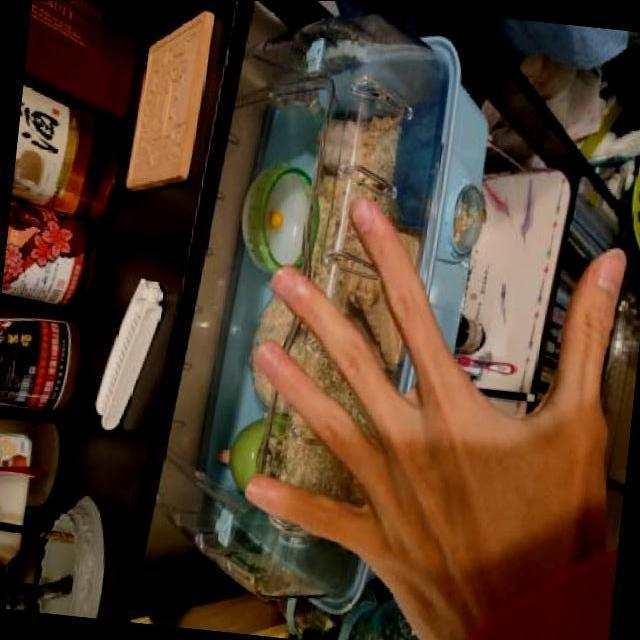Hand: (248, 192, 628, 620)
